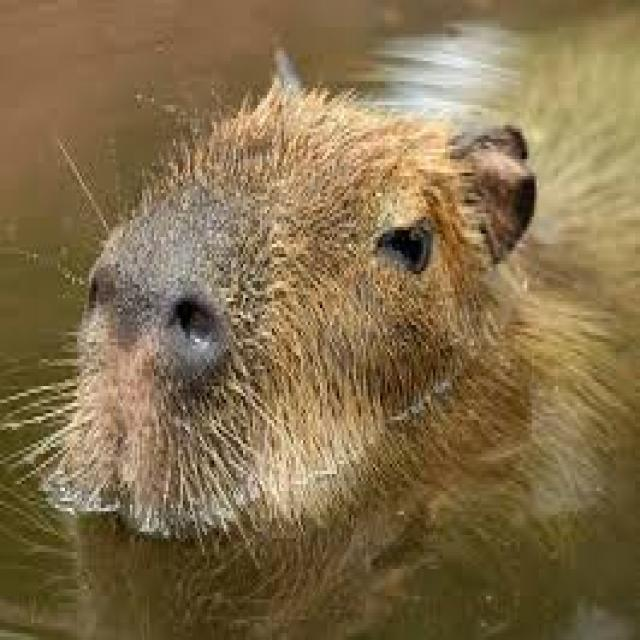capy: (53, 44, 640, 549)
